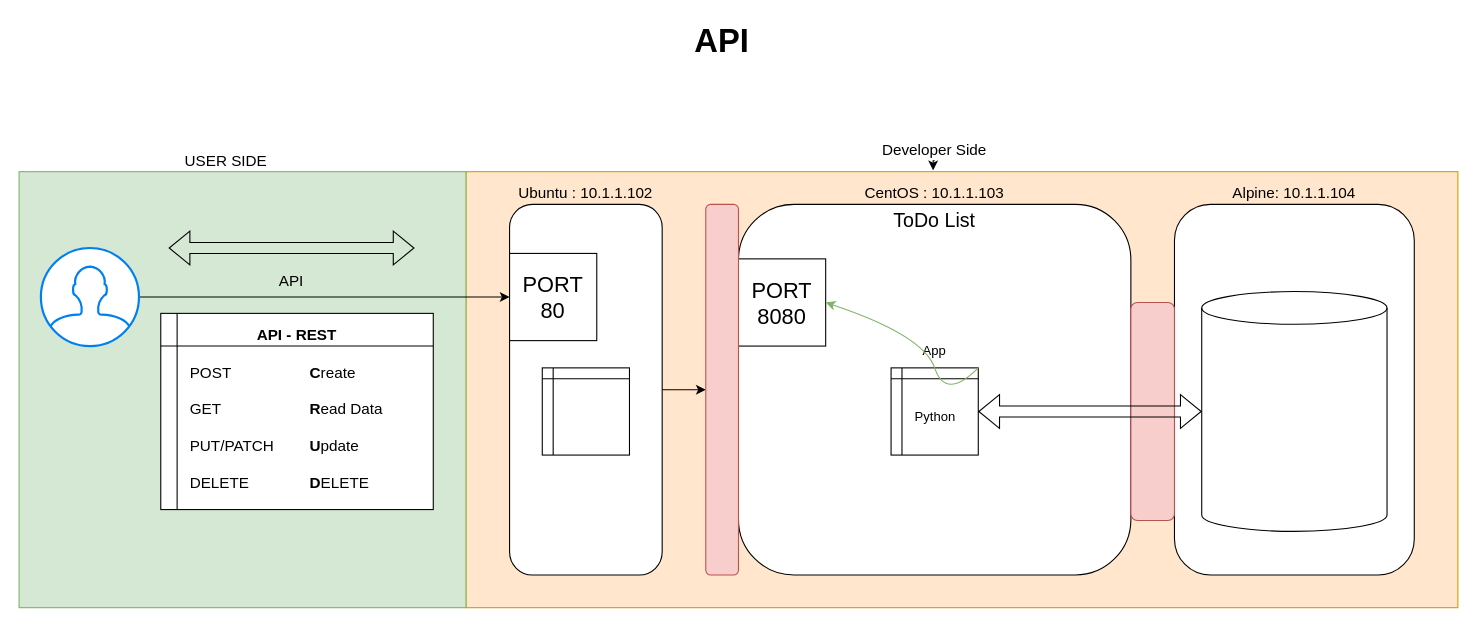
Some shapes in this 1477 by 627 pixel diagram are drawn without their labels. The centre of each missing label's shape, as x and y in pixels:
Database sqlite: the point at 1294,410
Nginx: the point at 585,411
